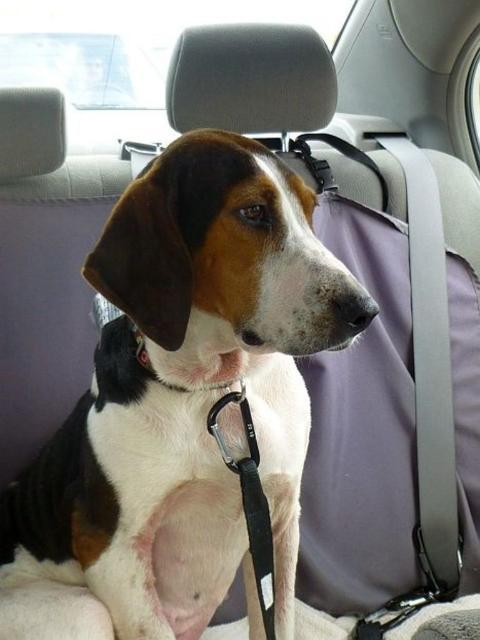SafeDriving: (231, 191, 273, 230)
Seatbelt: (378, 136, 452, 598)
